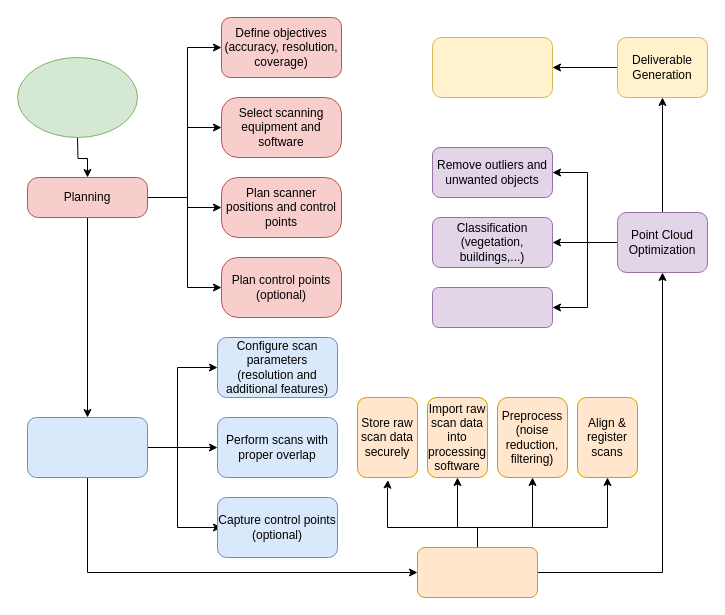
Image size: 725x615. Some labels were removed from this diagram. The shapes that lost their labels are listed below. From the top down, each one's centre as x and y in pixels, then its label:
(492,67): Export in required formats (LAS, E57, PLY, XYZ, etc.)
(77,97): Point Cloud Generation from TLS
(492,307): Georeference (if necessary)
(87,447): Field Data Acquisition
(477,572): Point Cloud Processing
